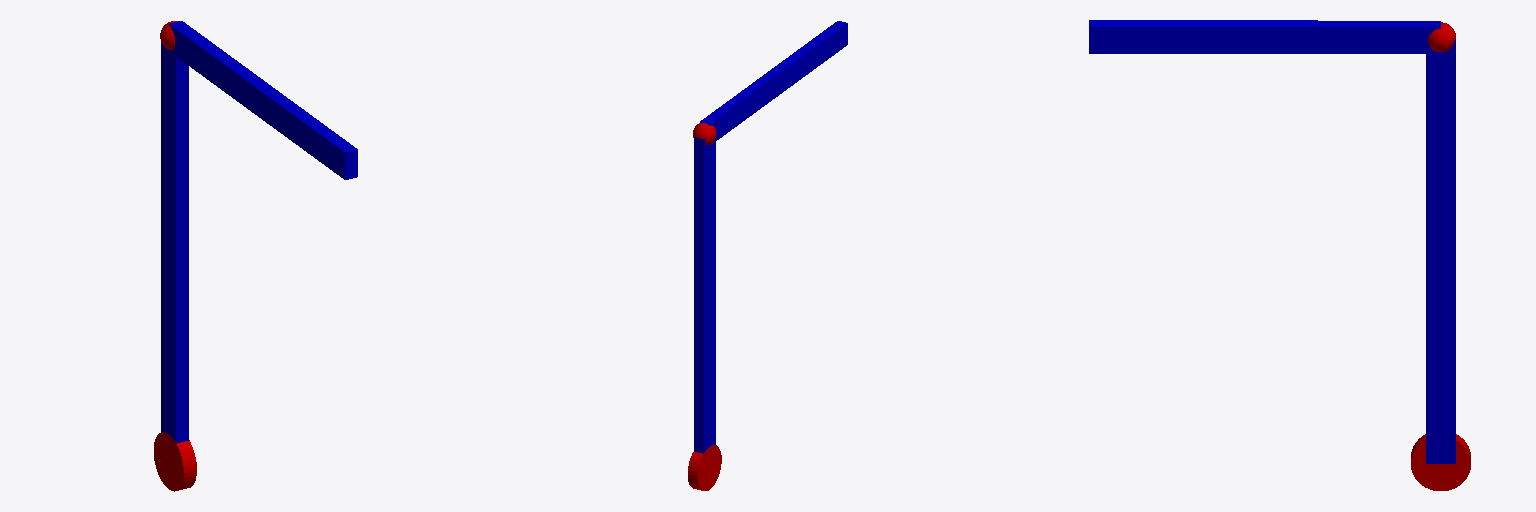
robot.urdf — TwoLinkStruct2344652066:
<?xml version="1.0"?>
<robot  name="TwoLinkStruct2344652066" >
 <material  name="blue" >
  <color  rgba="0 0 0.8 1.0" />
 </material>
 <material  name="red" >
  <color  rgba="0.8 0 0 1.0" />
 </material>
 <link  name="base_link" >
  <visual >
   <origin  rpy="0 1.5707 0"  xyz="0 0 0" />
   <material  name="red" />
   <geometry >
    <cylinder  length="0.05"  radius="0.1" />
   </geometry>
  </visual>
 </link>
 <joint  type="revolute"  name="joint1" >
  <parent  link="base_link" />
  <child  link="link1" />
  <origin  xyz="0 0 0"  rpy="0 0 0" />
  <axis  xyz="1 0 0" />
 </joint>
 <link  name="link1" >
  <inertial >
   <origin  rpy="0 0 0"  xyz="0 0 0.7705703864443061" />
   <mass  value="8.803344260018577" />
   <inertia  ixy="0.0"  iyy="0.0036680601083410743"  izz="1.7442468602295345"  ixz="0.0"  ixx="1.7442468602295345"  iyz="0.0" />
  </inertial>
  <visual >
   <origin  rpy="0 0 0"  xyz="0 0 0.7705703864443061" />
   <material  name="blue" />
   <geometry >
    <box  size="0.05 0.1 1.5411407728886122" />
   </geometry>
  </visual>
 </link>
 <joint  type="fixed"  name="joint-joint-1" >
  <parent  link="link1" />
  <child  link="joint-link-1" />
  <origin  xyz="0 0 1.5411407728886122"  rpy="1.5707 0 0" />
  <axis  xyz="1 0 0" />
 </joint>
 <link  name="joint-link-1" >
  <inertial >
   <origin  rpy="0 0 0"  xyz="0 0 0" />
   <mass  value="0.2608905102311458" />
   <inertia  ixy="0"  iyy="0"  izz="0"  ixz="0"  ixx="0"  iyz="0" />
  </inertial>
  <visual >
   <origin  rpy="0 0 0"  xyz="0 0 0" />
   <material  name="red" />
   <geometry >
    <sphere  radius="0.05" />
   </geometry>
  </visual>
 </link>
 <joint  type="revolute"  name="joint2" >
  <parent  link="link1" />
  <child  link="link2" />
  <origin  xyz="0 0 1.5411407728886122"  rpy="1.5707 0 0" />
  <axis  xyz="1 0 0" />
 </joint>
 <link  name="link2" >
  <inertial >
   <origin  rpy="0 0 0"  xyz="0 0 0.5811856370262944" />
   <mass  value="5.132786433905219" />
   <inertia  ixy="0.0"  iyy="0.0036680601083410743"  izz="0.9930223522195912"  ixz="0.0"  ixx="0.9930223522195912"  iyz="0.0" />
  </inertial>
  <visual >
   <origin  rpy="0 0 0"  xyz="0 0 0.5811856370262944" />
   <material  name="blue" />
   <geometry >
    <box  size="0.05 0.1 1.1623712740525889" />
   </geometry>
  </visual>
 </link>
 <joint  type="fixed"  name="eef_joint" >
  <parent  link="link2" />
  <child  link="eef" />
  <origin  xyz="0 0 1.1623712740525889"  rpy="0 0 0" />
 </joint>
 <link  name="eef" >
  <inertial >
   <origin  rpy="0 0 0"  xyz="0 0 0" />
   <mass  value="1" />
   <inertia  ixy="0"  iyy="0"  izz="0"  ixz="0"  ixx="0"  iyz="0" />
  </inertial>
 </link>
 <transmission  name="motor1" >
  <type  xmltext="SimpleTransmission" >
   SimpleTransmission
  </type>
  <actuator  name="motor1" >
   <mechanicalreduction  xmltext="1" >
    1
   </mechanicalreduction>
  </actuator>
  <joint  name="joint1" />
 </transmission>
 <transmission  name="motor2" >
  <type  xmltext="SimpleTransmission" >
   SimpleTransmission
  </type>
  <actuator  name="motor2" >
   <mechanicalreduction  xmltext="1" >
    1
   </mechanicalreduction>
  </actuator>
  <joint  name="joint2" />
 </transmission>
</robot>

<!-- {'carti': array([-0.1 ,  0.14,  0.85]), 'cartd': array([-0.1 ,  0.32,  1.29]), 'tau_mu': 0.6865106281470531, 'b0': 0.7470477699988564, 'Km': 2.3109714806000072, 'k_velocity': 26.247975699576227, 'tau_max_m': 3.6374499950342236, 'omega_max_m': 8810.495068819846, 'gear_ratio': 13.496035437737623, 'Kp': 21.048619590118513, 'Kd': 15.979948921226933, 'm_m': 0.2608905102311458, 'l1': 1.5411407728886122, 'l2': 1.1623712740525889, 'k1': 1335.5833940256923, 'k2': 247119688.43491176, 'k3': 20050240.697386183}-->

--- What the picture shows (computed from the rendered views, not written in the file) ---
Views: 3 orthographic renders of the robot side by side, from view 1: azimuth 30°, elevation 25°; view 2: azimuth 150°, elevation 25°; view 3: azimuth 270°, elevation 25°.
Robot: TwoLinkStruct2344652066 — 5 links, 4 joints (2 revolute, 2 fixed); root link base_link; default pose: every joint at zero.
Links seen in each view (by area): view 1: link1, link2, base_link; view 2: link1, link2, base_link; view 3: link1, link2, base_link, joint-link-1.
Boxes of the visible links, x1,y1,x2,y2 form: link1: (161,42,188,464); link2: (169,21,357,179); base_link: (154,432,196,491); link1: (694,137,715,453); link2: (700,21,847,140); base_link: (688,445,721,490); link1: (1426,39,1455,463); link2: (1089,20,1440,53); base_link: (1411,434,1470,490); joint-link-1: (1428,22,1455,51).
Bounding box of the posed robot: 0.1 × 1.26 × 1.69 m (x, y, z).
Geometry: primitives only (box / cylinder / sphere), no mesh files.
